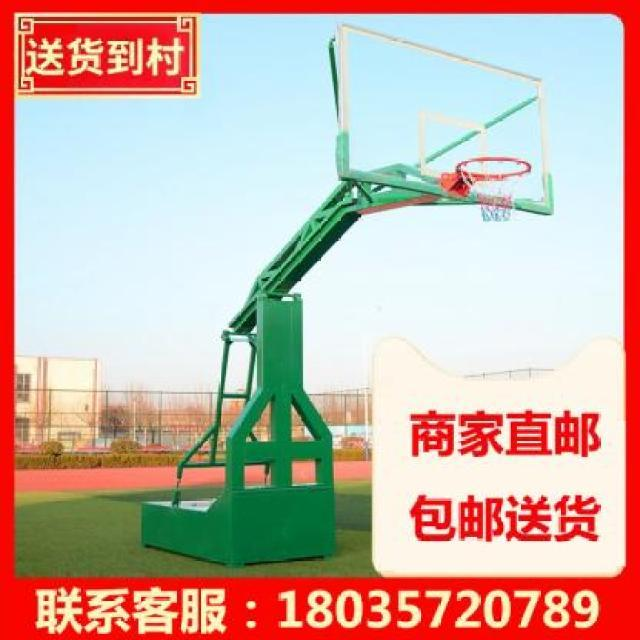rim: (452, 156, 532, 222)
